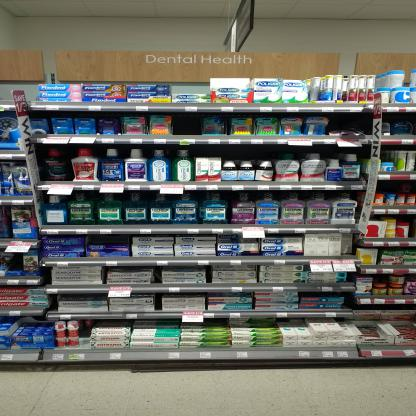Void: (223, 144, 292, 158), (334, 114, 368, 136), (176, 115, 202, 138), (382, 179, 415, 195), (86, 233, 126, 244)
